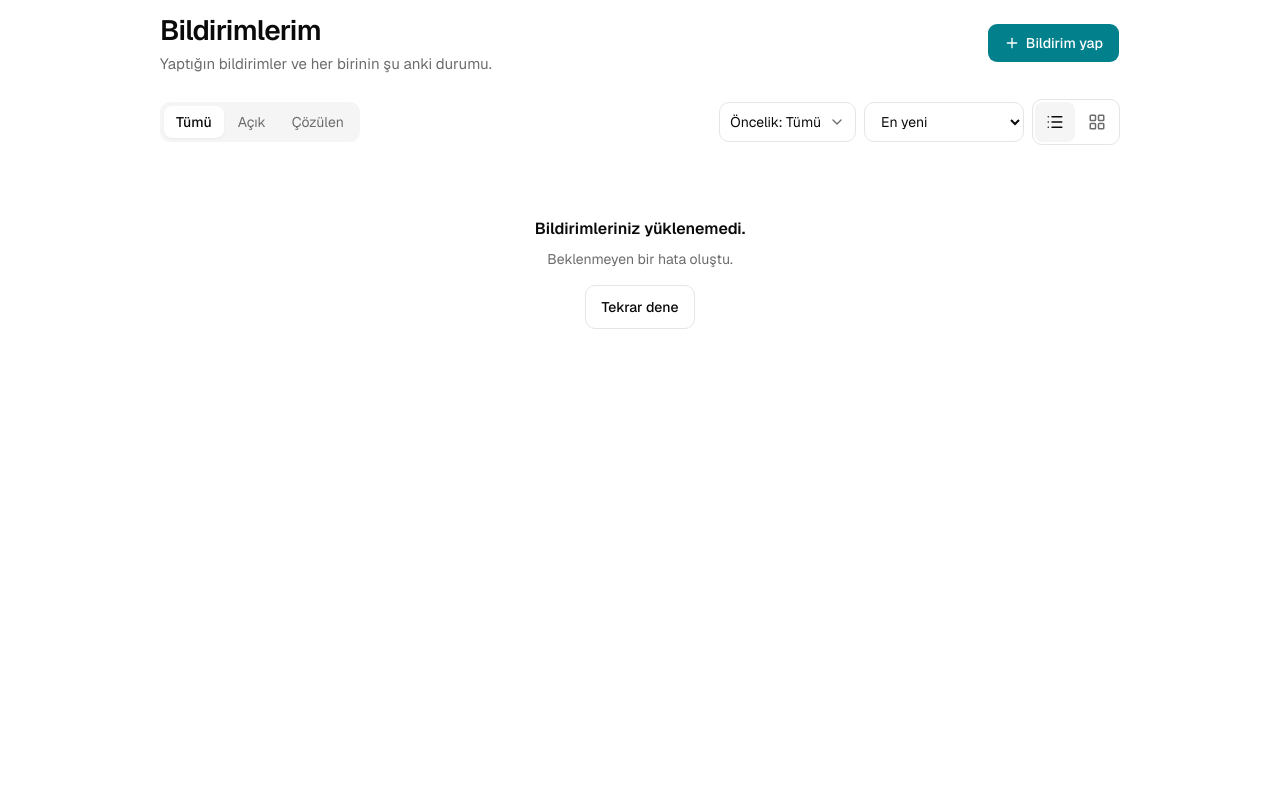
Test: MyCasesList › shows the backend error and loads again on retry
Expected: the message shows "Bildirimleriniz yüklenemedi.", x1=535 y1=218 x2=745 y2=239
Expected: the message shows "Beklenmeyen bir hata oluştu.", x1=547 y1=250 x2=733 y2=268
Click the button "Tekrar dene" at {"x": 640, "y": 307}, box x1=584 y1=285 x2=695 y2=329
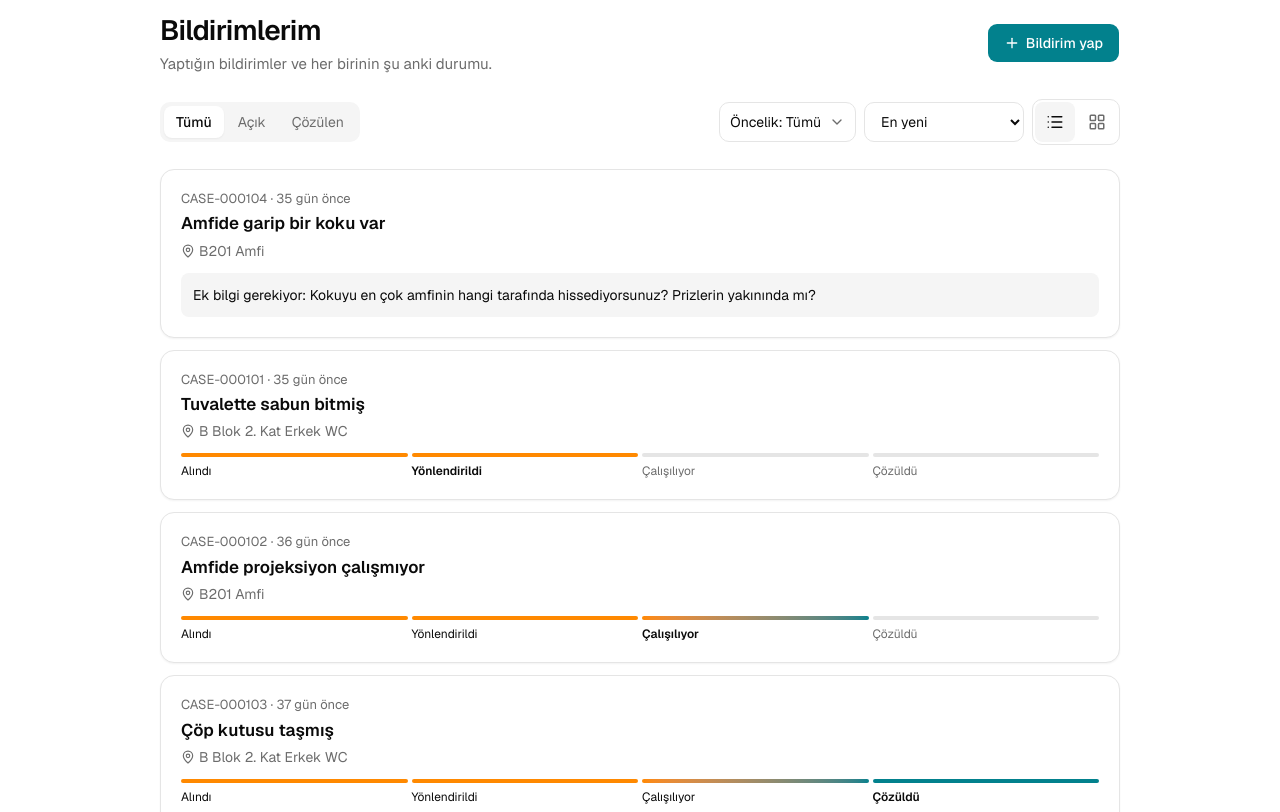
Expected: the link "Tuvalette sabun bitmiş" is shown, x1=160 y1=350 x2=1120 y2=500
